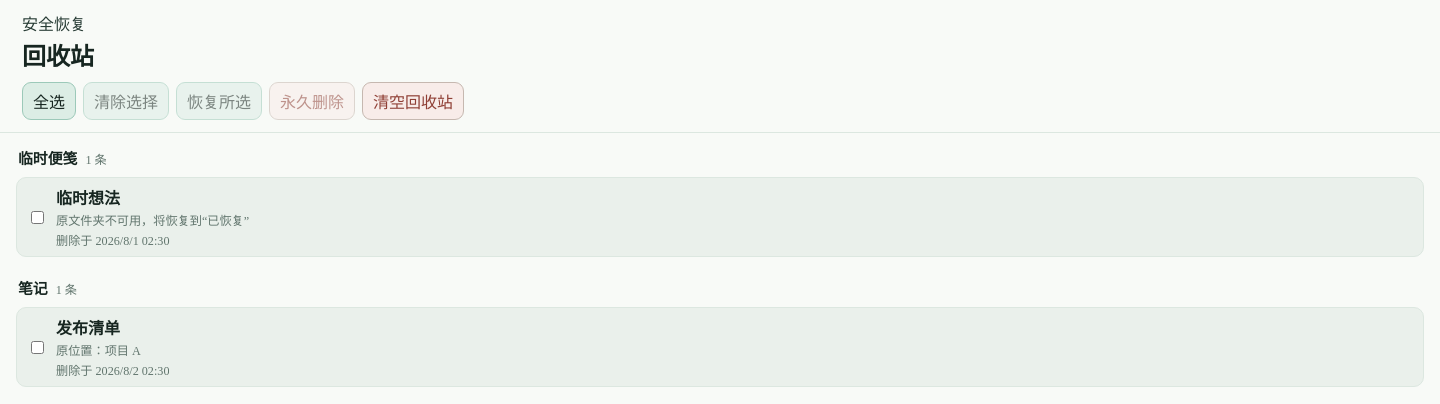
Scenario: TrashView › invalidates an older list request before restore and refreshes the surrounding library
What coordinates should you click on to do the following:
click the checkbox named "选择 发布清单"
I would click on:
 (38, 347)
Its box is left=31, top=340, right=44, bottom=354.
Wait 1000 ms
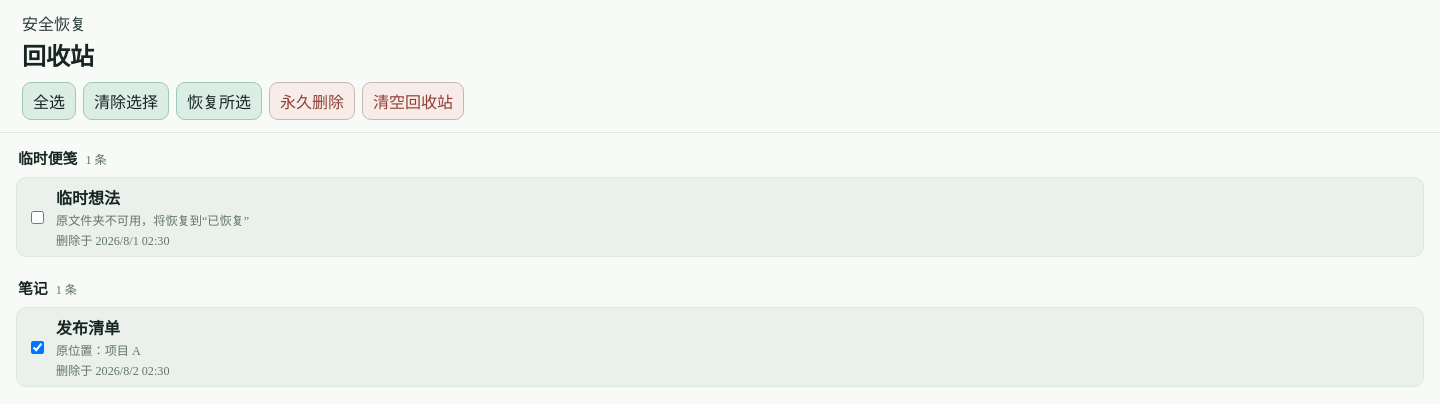
What coordinates should you click on to do the following:
click the button "恢复所选"
I would click on:
 (219, 101)
Its box is left=176, top=82, right=262, bottom=120.
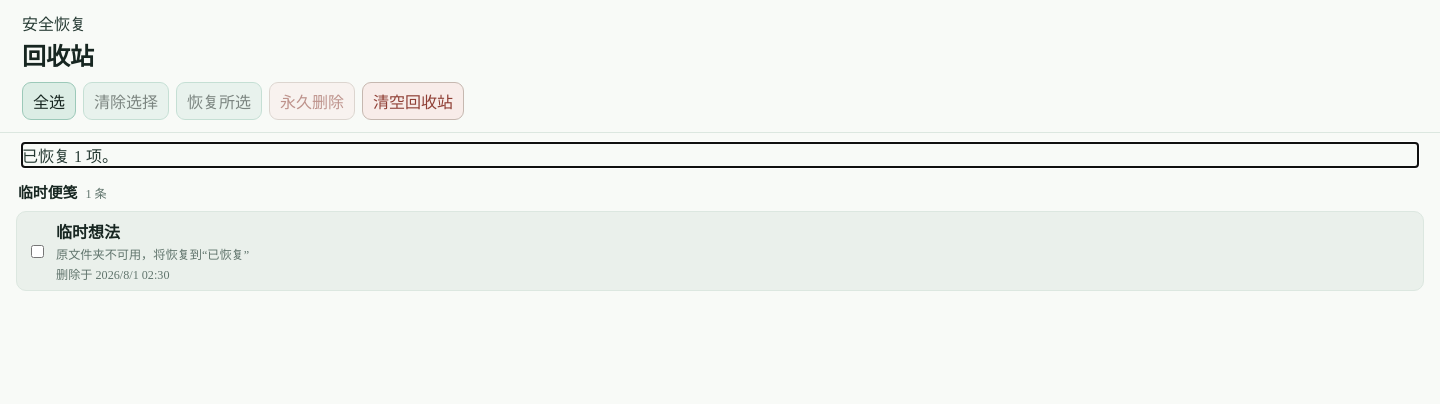
Expected: the text "已恢复 1 项。" is shown, left=22, top=148, right=118, bottom=165
